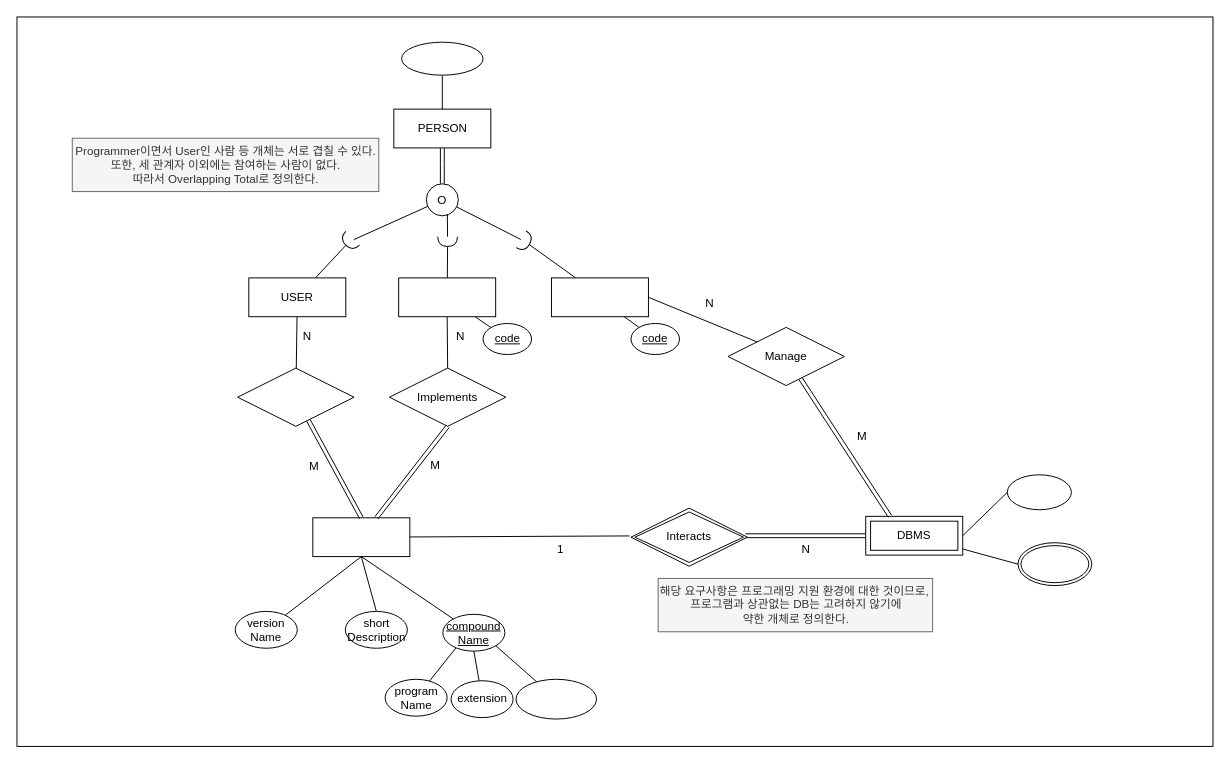
Some shapes in this 1230 by 763 pixel diagram are drawn without their labels. The centre of each missing label's shape, as x and y in pixels:
attribute: point (1054, 564)
DBEngineer: point (599, 297)
key: point (1038, 492)
loginName: point (442, 58)
PROGRAM: point (361, 537)
PROGRAMER: point (447, 297)
programmer's Code: point (556, 698)
uses: point (295, 396)
